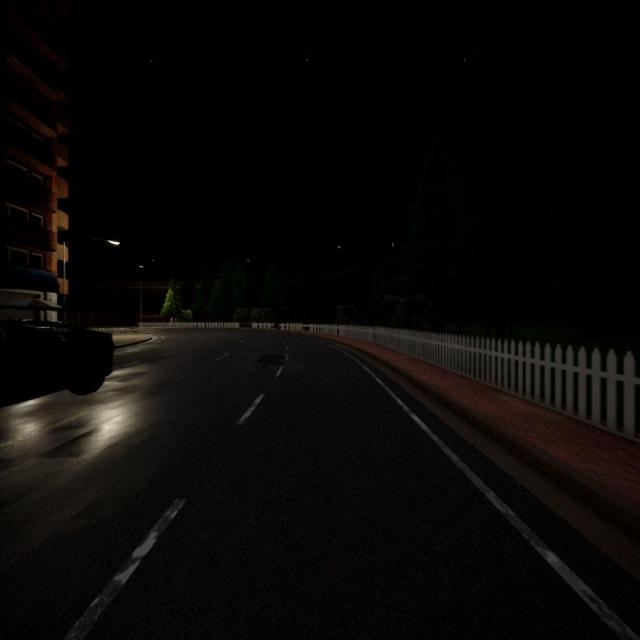Vehicle: (0, 320, 116, 408)
